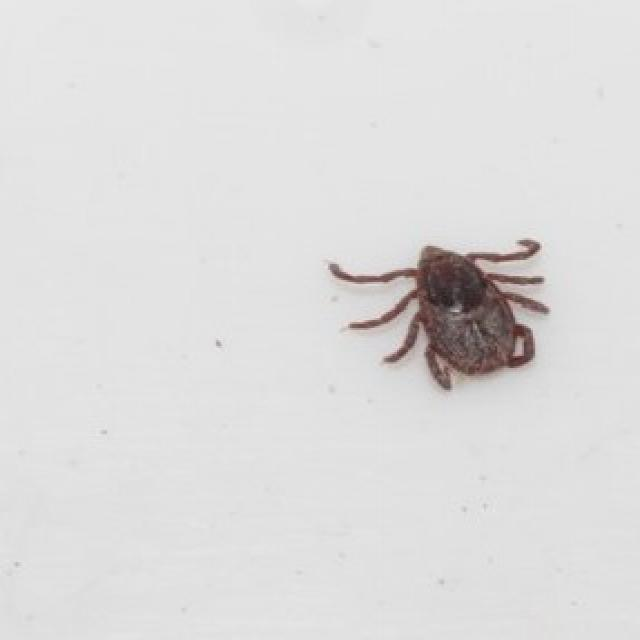Rhipicephalus Sanguineus-F: (328, 238, 549, 394)
